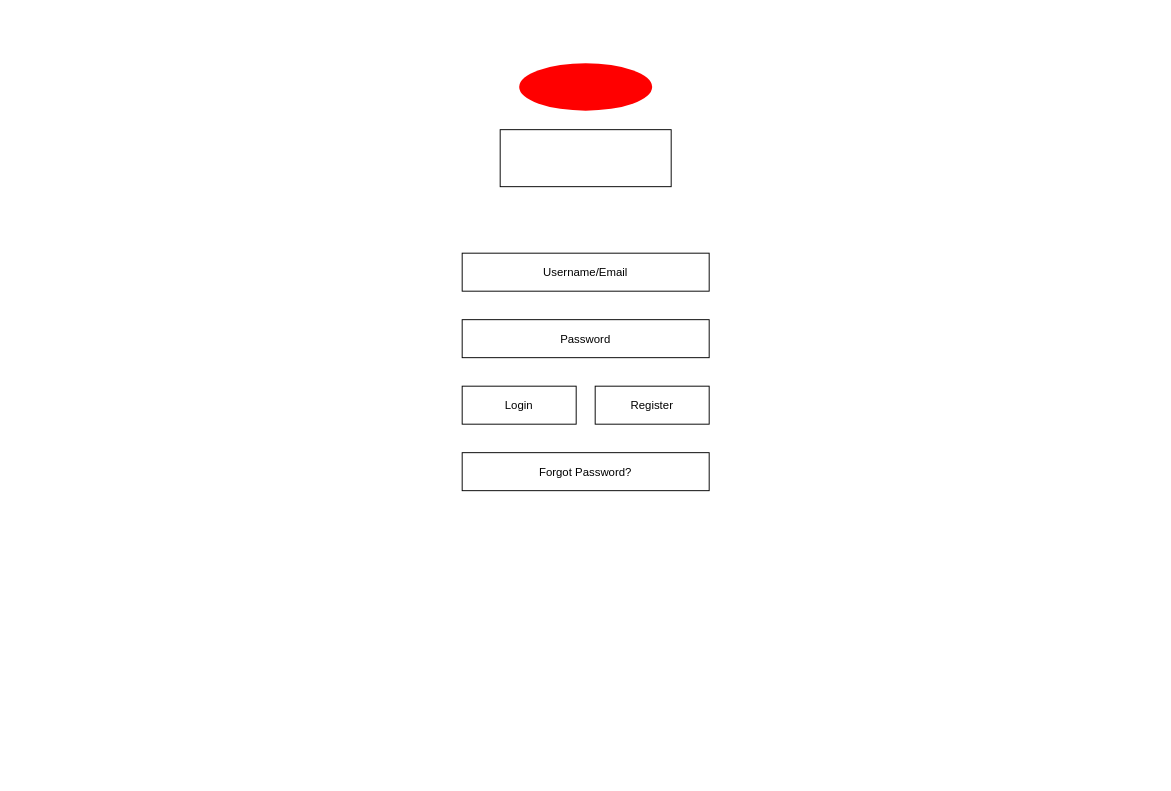
The diagram is 1171 pixels wide and 791 high, and some of its shapes have lost their labels. Here are the shapes that lost their labels. From the top down, the box of each, then its label:
(519, 63, 652, 110): Emergency Hotline
(499, 129, 671, 187): Download App
